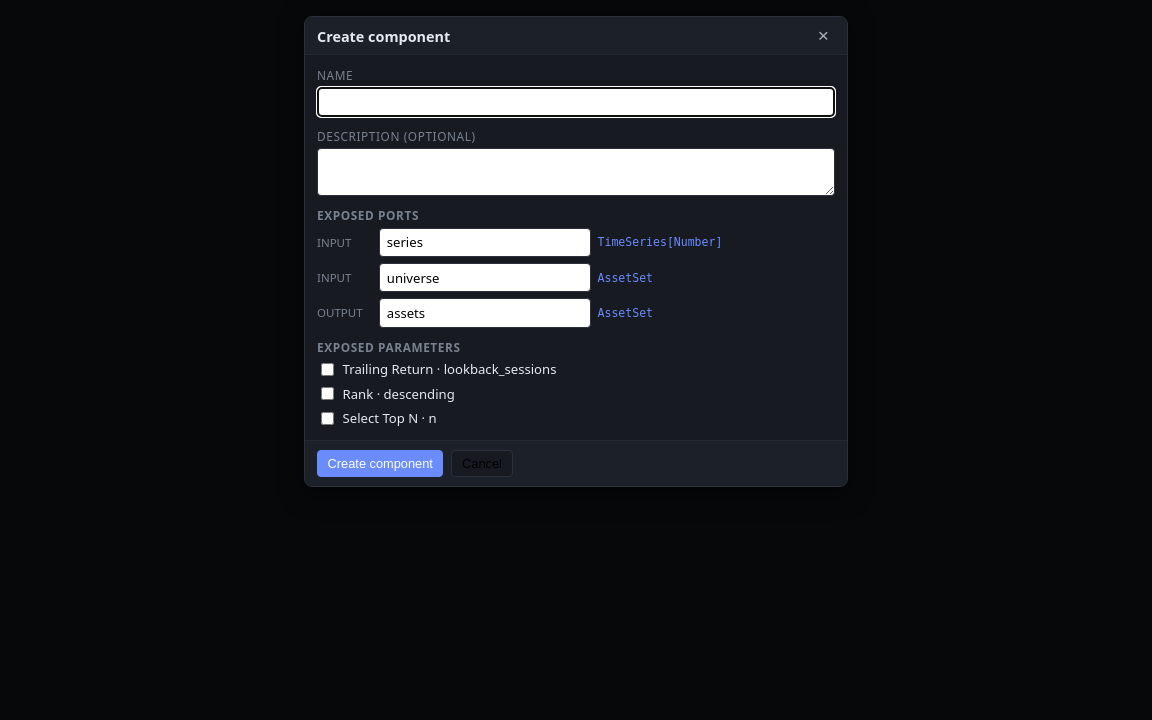
it: ExtractDialog two-phase commit › validate ok:false → renders diagnostics and NEVER replaces the document
The width and height of the screenshot is (1152, 720).
Type "Momentum" into the field named "component name" at (576, 102), box [317,87,835,117]
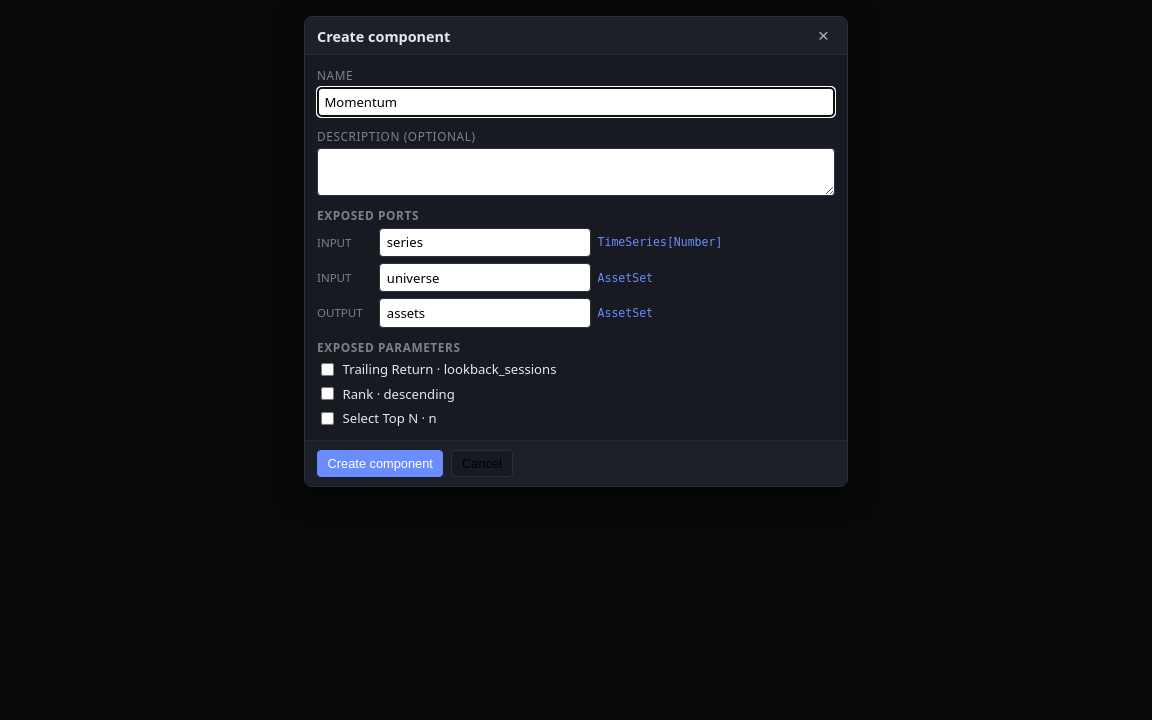
Click the button "Create component" at (380, 464), box [317,450,444,477]
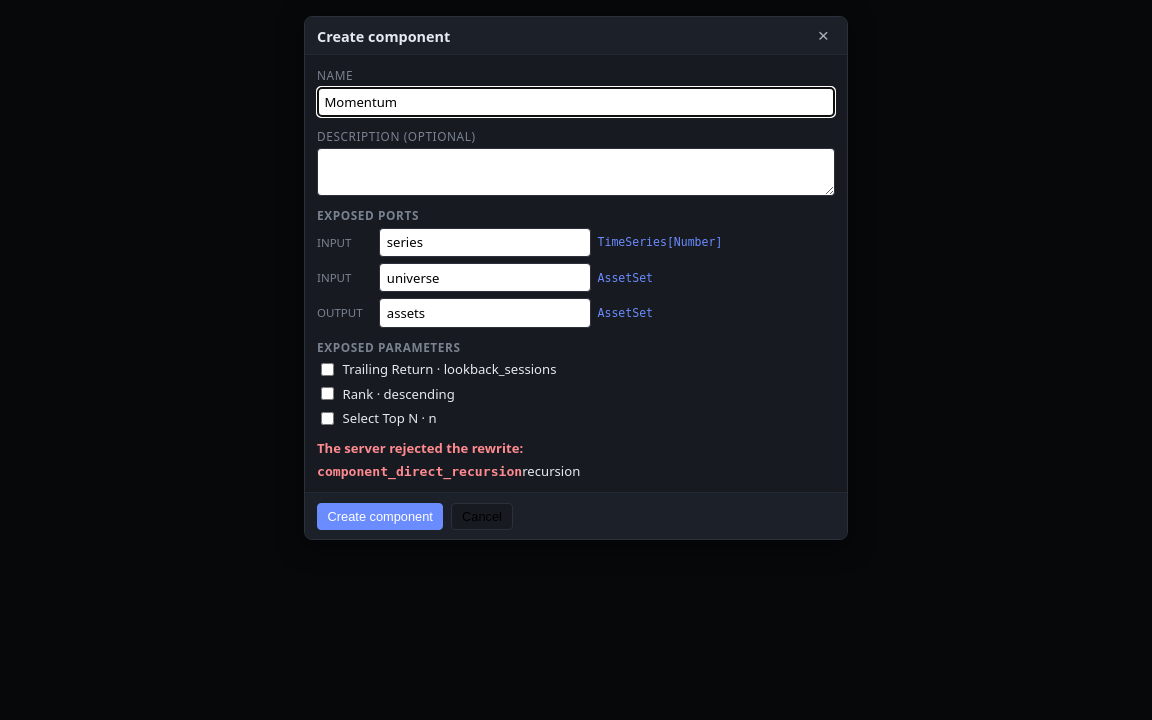
Now the text "component_direct_recursion" is shown, box [317,464,522,480]
